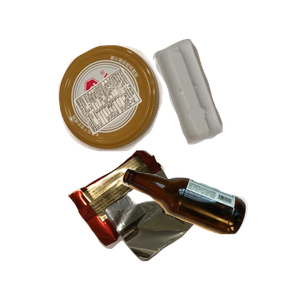glass: (119, 166, 300, 300)
metal: (56, 43, 211, 187)
plastic: (150, 36, 300, 173)
trash: (65, 148, 258, 300)
